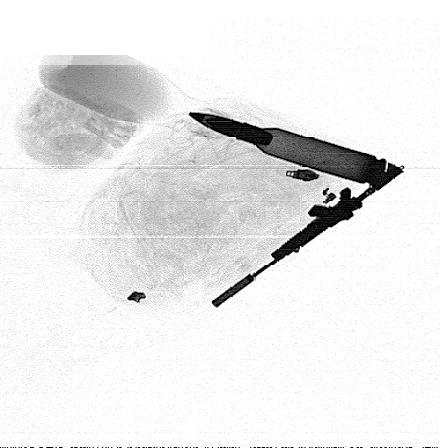Bullet: (188, 111, 387, 188)
Gun: (211, 161, 404, 307)
